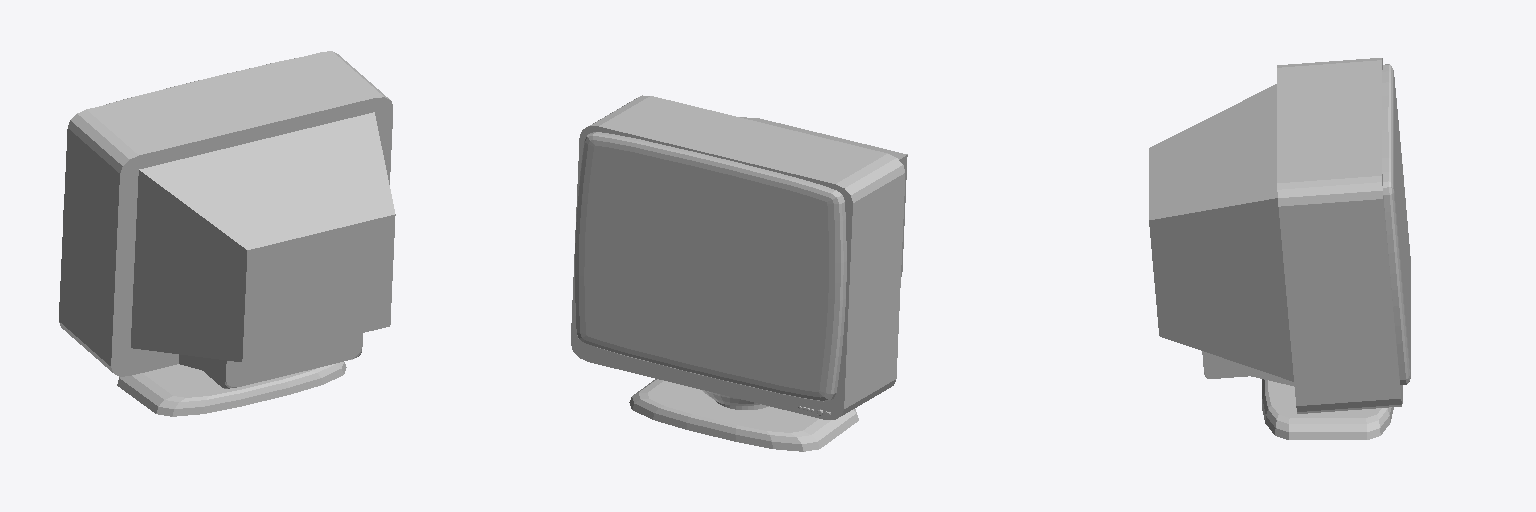
File: CRTMonitor.obj
The picture shows the model from 3 angles: view 1: azimuth 30°, elevation 25°; view 2: azimuth 150°, elevation 25°; view 3: azimuth 270°, elevation 25°; orthographic projection.
Visible parts, largest first — view 1: Cube; view 2: Cube; view 3: Cube.
Boxes of the visible parts, <box> form: Cube: <box>59,51,395,416</box>; Cube: <box>571,95,907,451</box>; Cube: <box>1149,58,1410,439</box>.
Bounding box in the file's own units: 8 × 7.72 × 6.64.